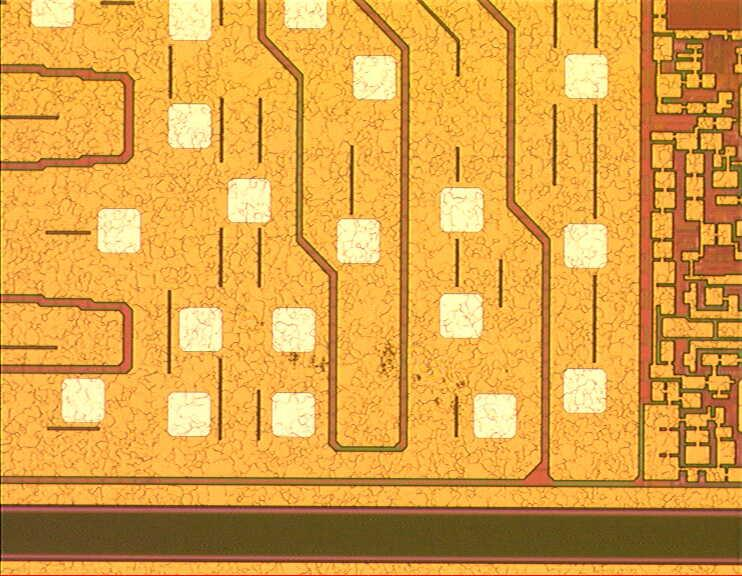PIQ PARTICLE: (285, 336, 486, 412)
